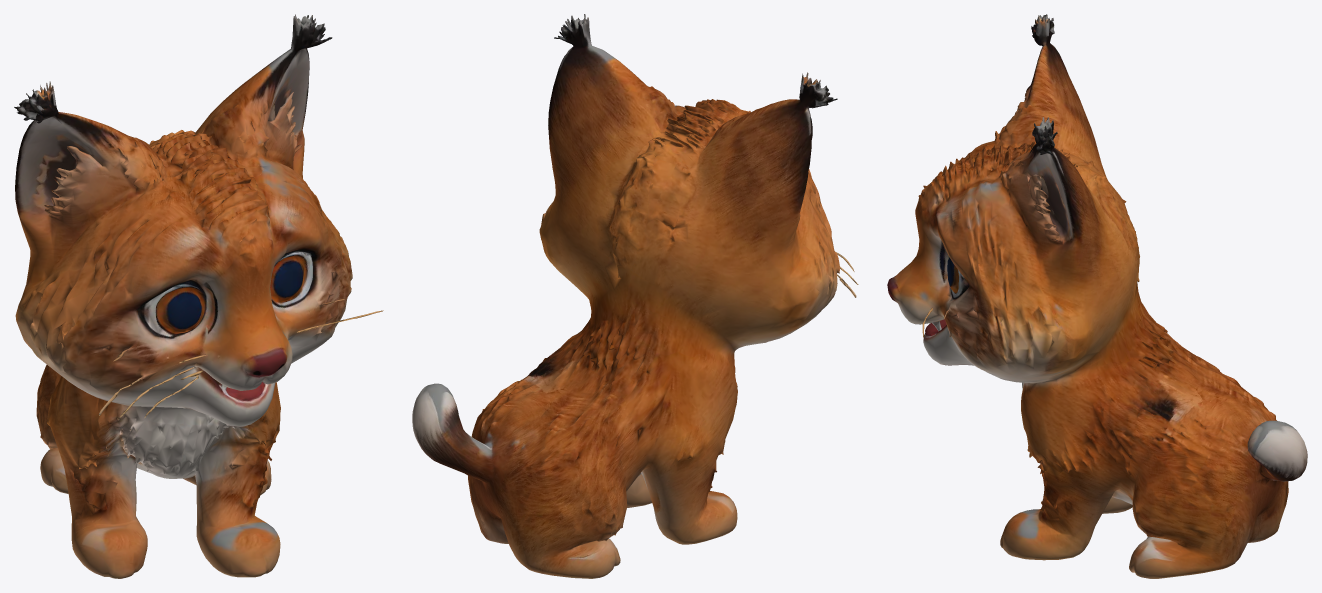
File: lince.glb
The picture shows the model from 3 angles, left to right: view 1: azimuth 30°, elevation 25°; view 2: azimuth 150°, elevation 25°; view 3: azimuth 270°, elevation 25°; orthographic projection. The views are drawn at different scales.
Visible parts, largest first — view 1: tripo_node_999ef289-fddb-4fba-9911-152e7dbcf3c4; view 2: tripo_node_999ef289-fddb-4fba-9911-152e7dbcf3c4; view 3: tripo_node_999ef289-fddb-4fba-9911-152e7dbcf3c4.
Part boxes in pixels (bbox=[...]): tripo_node_999ef289-fddb-4fba-9911-152e7dbcf3c4: bbox=[14, 14, 383, 578]; tripo_node_999ef289-fddb-4fba-9911-152e7dbcf3c4: bbox=[412, 14, 858, 578]; tripo_node_999ef289-fddb-4fba-9911-152e7dbcf3c4: bbox=[887, 14, 1307, 578].
Bounding box in the file's own units: 0.6737 × 0.9998 × 0.8297.
1 material, 1 textured.
